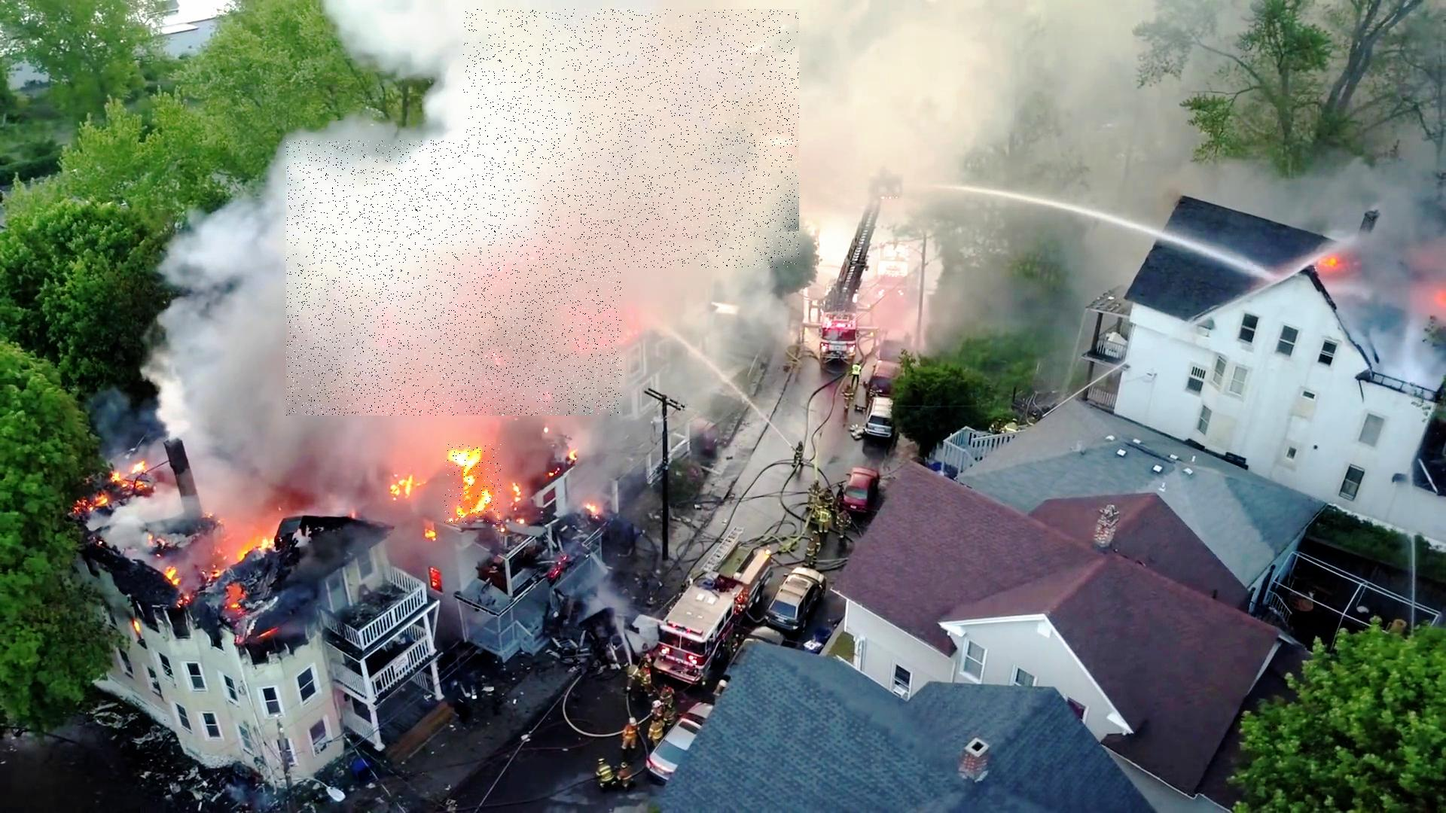fire: (445, 444, 501, 524)
smoke: (287, 140, 622, 416), (463, 10, 799, 269)
